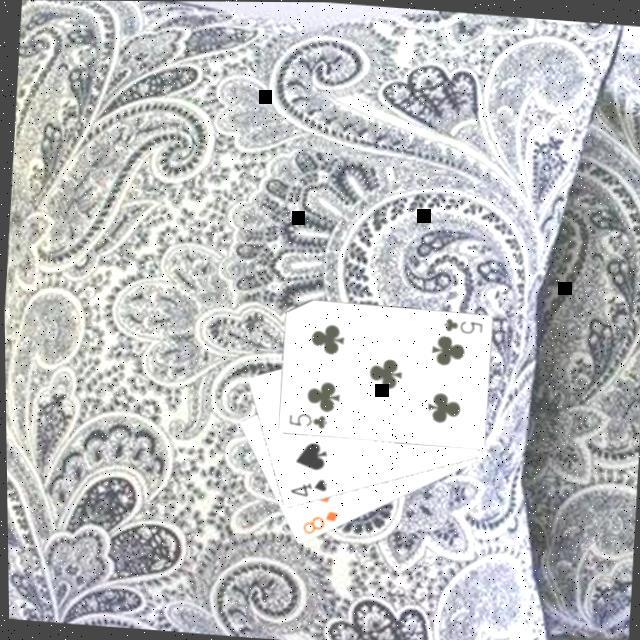4S: (283, 472, 328, 499)
5C: (437, 312, 482, 336), (282, 408, 328, 430)
8D: (296, 504, 338, 538)
